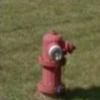a fire hydrant: (34, 28, 78, 96)
